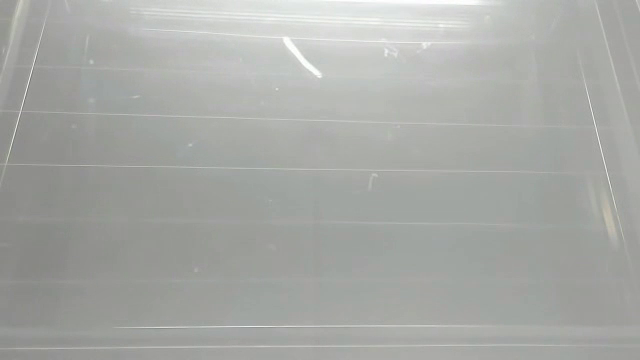alpha: (278, 32, 327, 81)
